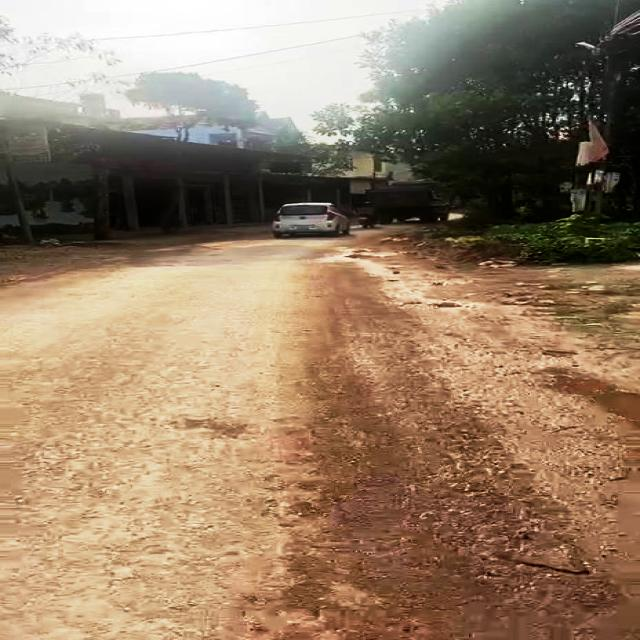pothole: (535, 364, 640, 434)
